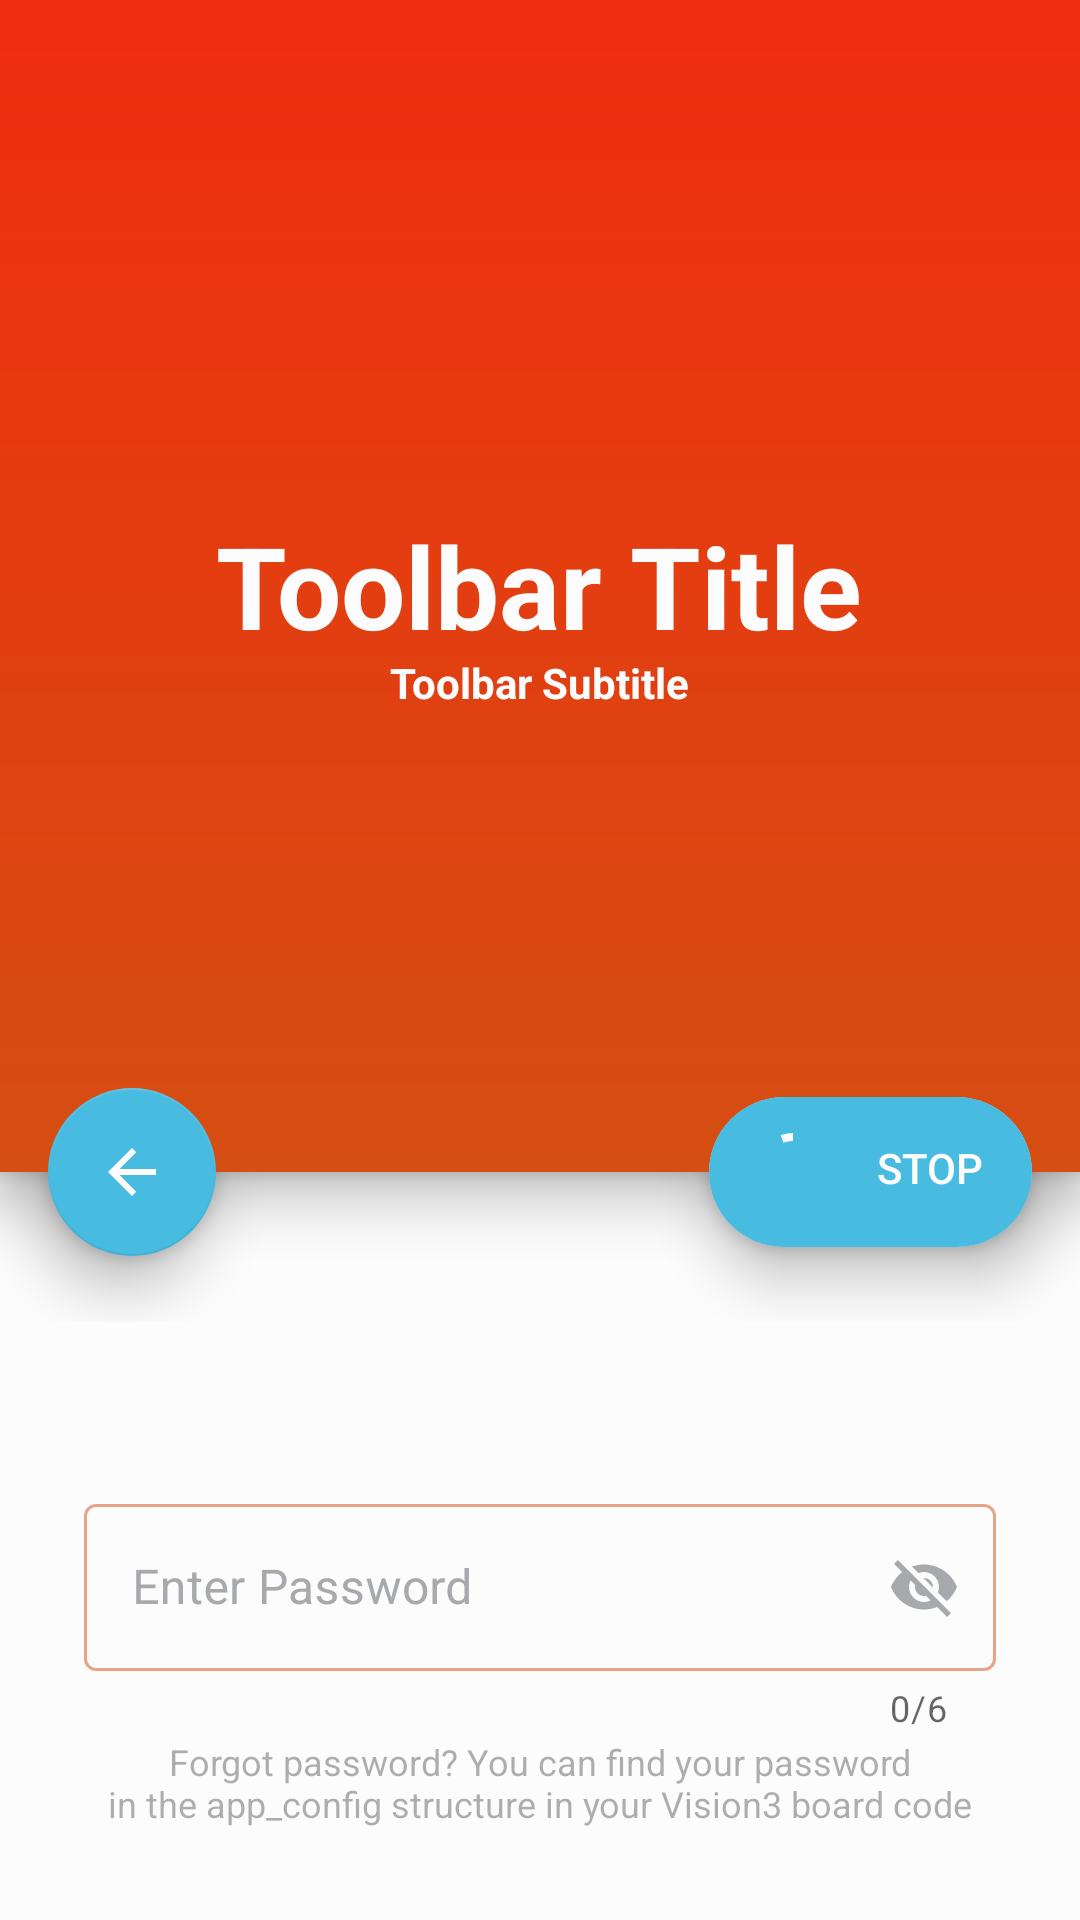

Icon click points for this 1080*1920 phone screenshot, format [x,y]:
arrow back: [132,1172]
